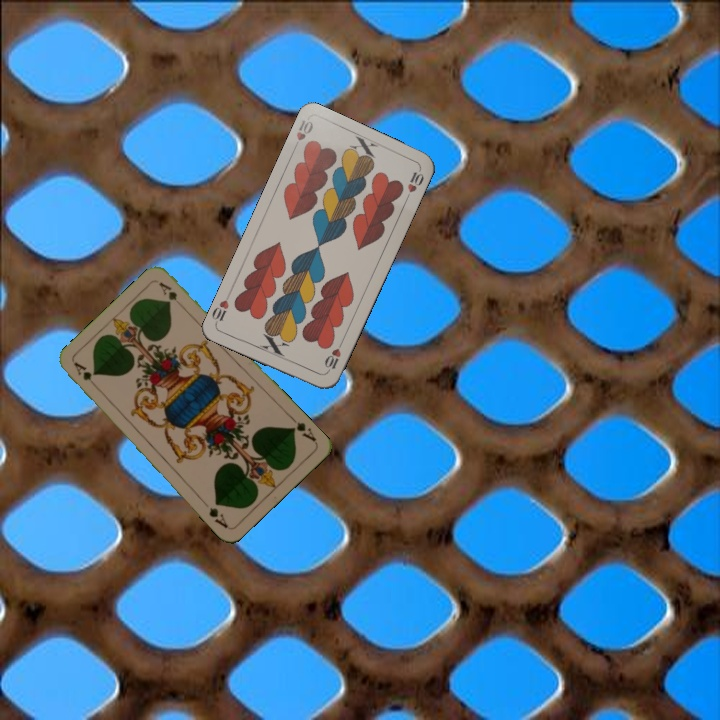GA: (70, 358, 101, 392), (287, 413, 319, 444)
H10: (289, 116, 316, 153), (320, 337, 345, 376)
